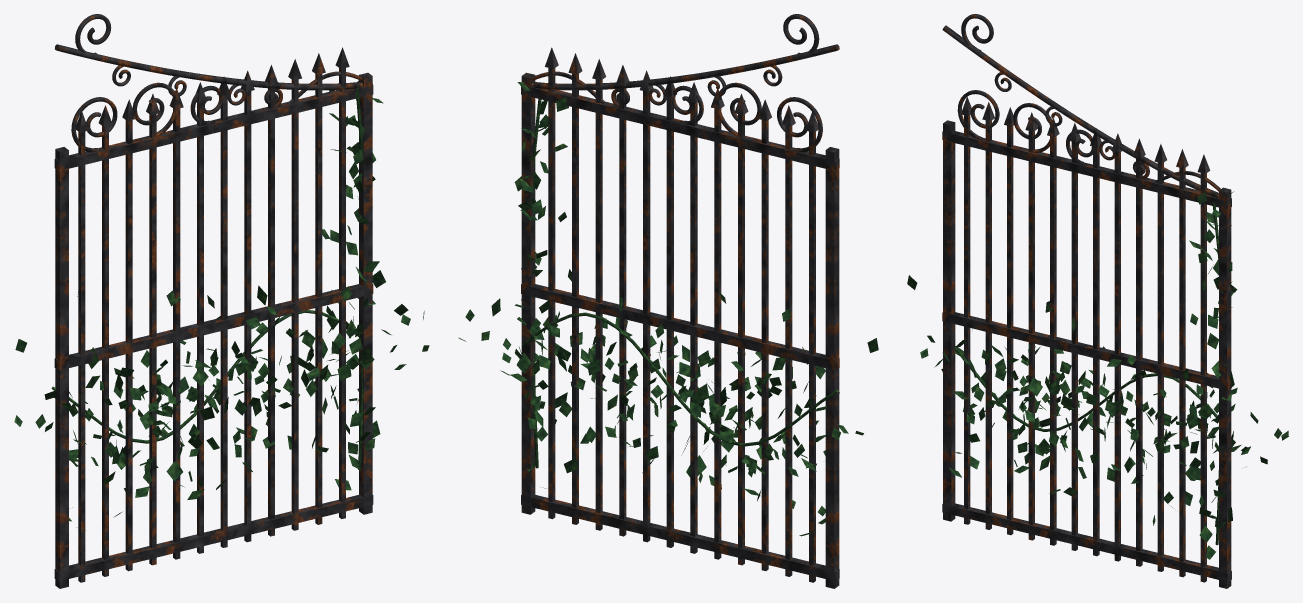
Rendered from reja_hoja_der.obj.
3 views of the same model, side by side, from view 1: azimuth 30°, elevation 25°; view 2: azimuth 150°, elevation 25°; view 3: azimuth 330°, elevation 25° (orthographic). The views are drawn at different scales.
Visible parts, largest first — view 1: Reja_Hoja_Der, Hiedra_Hoja_Der; view 2: Reja_Hoja_Der, Hiedra_Hoja_Der; view 3: Reja_Hoja_Der, Hiedra_Hoja_Der.
Part boxes in pixels (x1,y1,x2,y2): Reja_Hoja_Der: (54,14,373,588); Hiedra_Hoja_Der: (14,80,429,529); Reja_Hoja_Der: (521,14,839,588); Hiedra_Hoja_Der: (458,82,878,536); Reja_Hoja_Der: (942,14,1231,588); Hiedra_Hoja_Der: (907,191,1288,559).
Bounding box in the file's own units: 2.29 × 2.99 × 0.4162.
2 materials, 2 textured.
